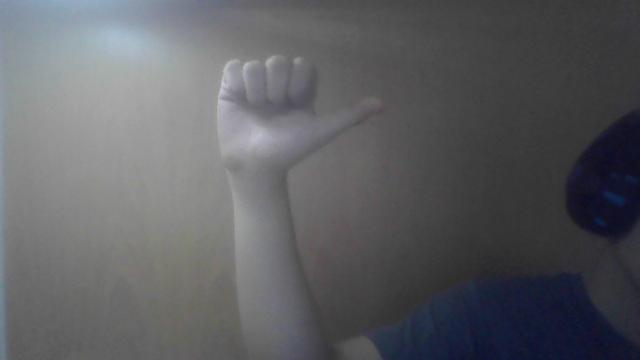left: (208, 51, 388, 182)
